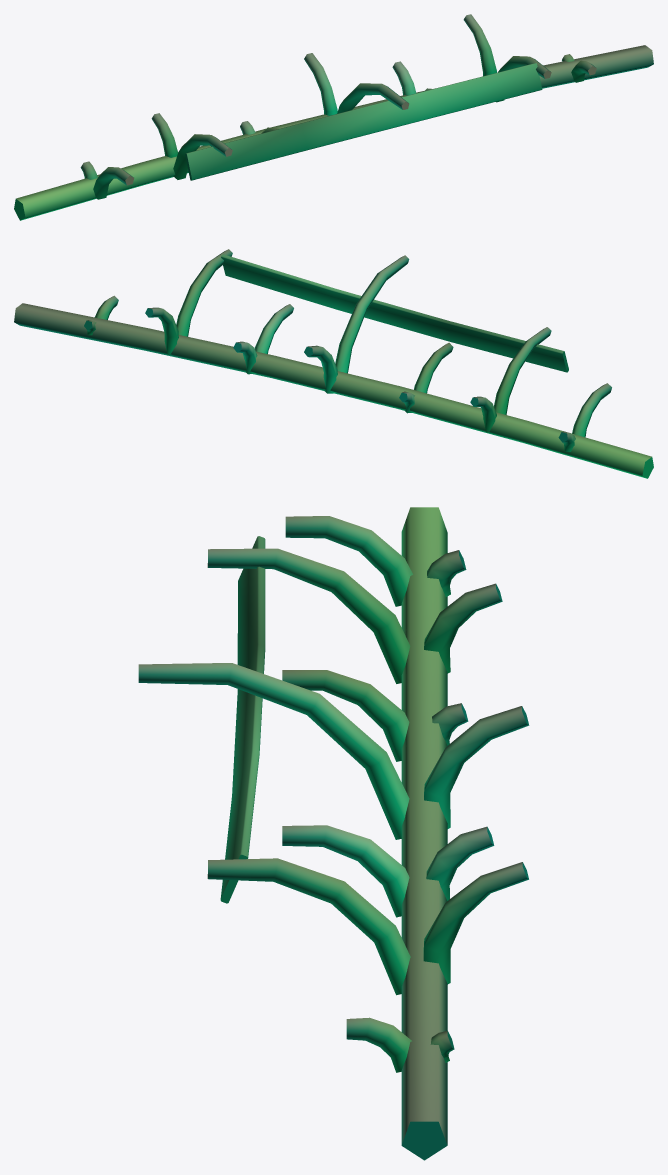
Rendered from wreck_rib.glb.
The picture shows the model from 3 angles, top to bottom: view 1: azimuth 30°, elevation 25°; view 2: azimuth 150°, elevation 25°; view 3: azimuth 270°, elevation 25°; orthographic projection. The views are drawn at different scales.
Visible parts, largest first — view 1: wreck_rib; view 2: wreck_rib; view 3: wreck_rib.
Part boxes in pixels (x1=…): wreck_rib: x1=14, y1=14, x2=653, y2=220; wreck_rib: x1=14, y1=249, x2=653, y2=478; wreck_rib: x1=138, y1=507, x2=529, y2=1160.
Size of what is drawn, in the model's own units: 4.2 by 0.6107 by 1.13.
